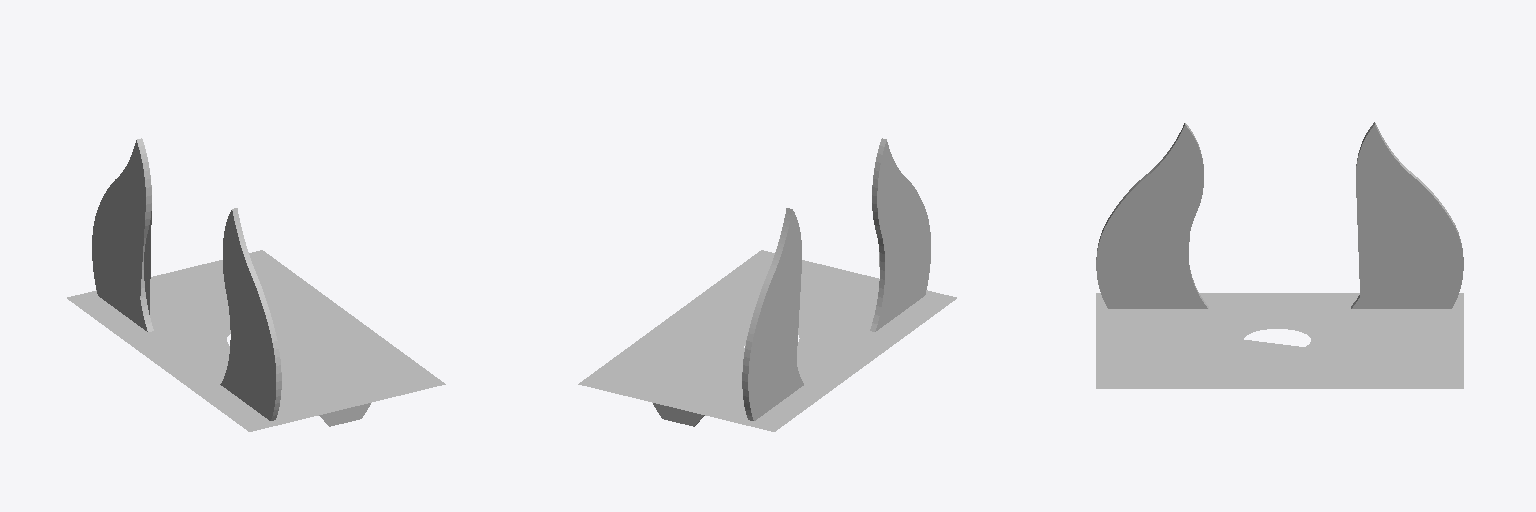
File: Liquid Galaxy Voice Top v2 Object.obj
The picture shows the model from 3 angles: view 1: azimuth 30°, elevation 25°; view 2: azimuth 150°, elevation 25°; view 3: azimuth 270°, elevation 25°; orthographic projection.
Visible parts, largest first — view 1: Mesh1 Model; view 2: Mesh1 Model; view 3: Mesh1 Model.
Boxes of the visible parts, x1=… form: Mesh1 Model: x1=67, y1=138, x2=445, y2=431; Mesh1 Model: x1=578, y1=138, x2=956, y2=431; Mesh1 Model: x1=1096, y1=122, x2=1463, y2=388.
Bounding box in the file's own units: 91.23 × 87.95 × 148.